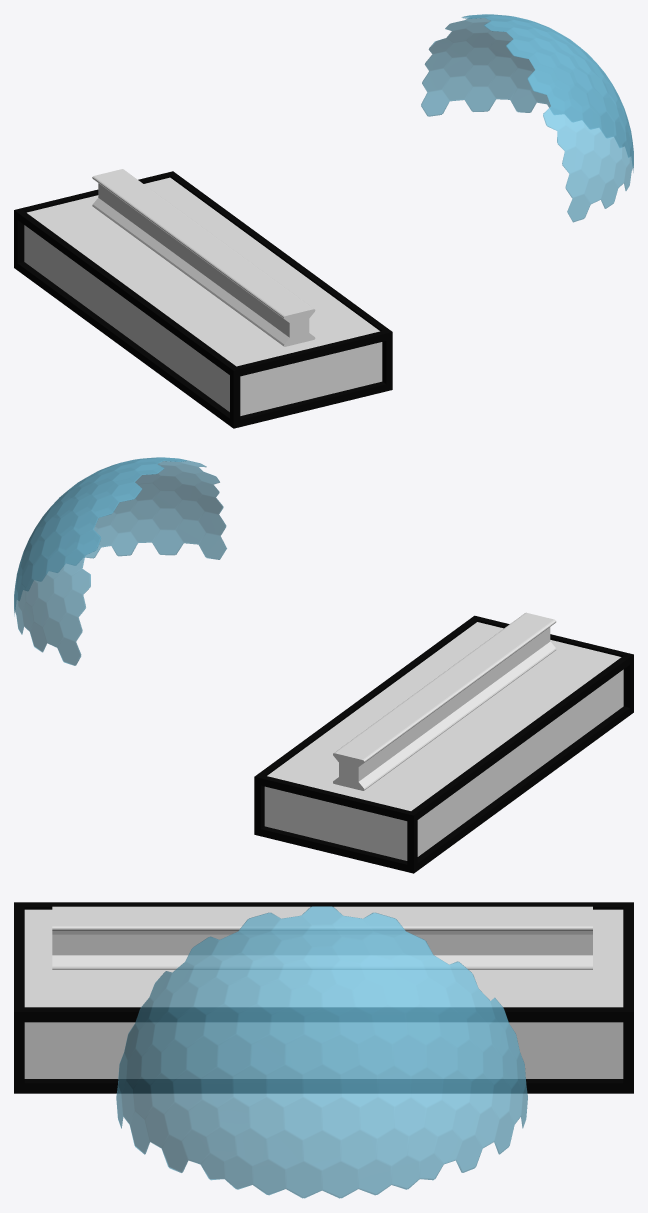
File: tRACKS 3.fbx
The picture shows the model from 3 angles, top to bottom: view 1: azimuth 30°, elevation 25°; view 2: azimuth 150°, elevation 25°; view 3: azimuth 270°, elevation 25°; orthographic projection. The views are drawn at different scales.
Visible parts, largest first — view 1: Cube.001, Sphere_6, Cube; view 2: Cube.001, Sphere_6, Cube; view 3: Sphere_6, Cube.001, Cube.
Boxes of the visible parts, x1,y1,x2,y2 form: Cube.001: [14, 171, 392, 428]; Sphere_6: [421, 14, 633, 222]; Cube: [92, 169, 315, 346]; Cube.001: [254, 615, 633, 873]; Sphere_6: [14, 457, 226, 665]; Cube: [333, 612, 556, 790]; Sphere_6: [116, 906, 527, 1198]; Cube.001: [14, 902, 633, 1093]; Cube: [52, 906, 592, 969].
Size of the model in its own units: 2570 by 1164 by 1996.
